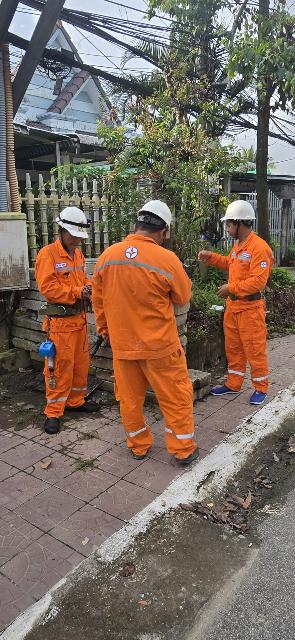harness: (38, 295, 94, 322), (222, 284, 269, 307)
helmet: (211, 192, 269, 229), (51, 205, 98, 247), (141, 198, 178, 235)
shoes: (172, 439, 202, 467), (66, 396, 101, 415), (248, 386, 271, 410), (208, 381, 238, 399), (41, 414, 62, 438)
